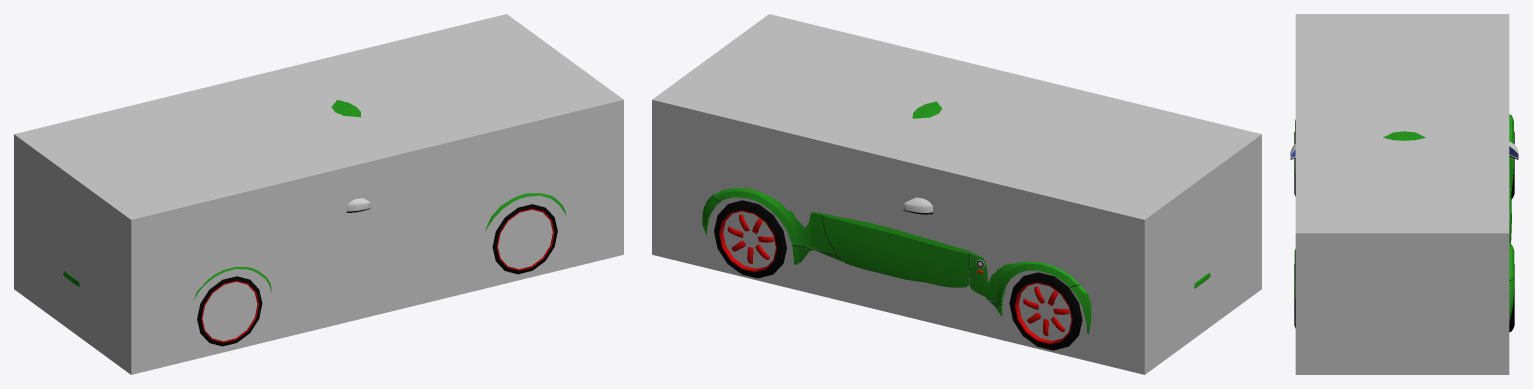
Rendered from car.obj.
3 renders of one model, left to right at view 1: azimuth 30°, elevation 25°; view 2: azimuth 150°, elevation 25°; view 3: azimuth 270°, elevation 25°, orthographic. The views are drawn at different scales.
Visible parts, largest first — view 1: Cube, car_Plane.001, rear_wheel_Cylinder.003, front_wheel_Cylinder.003; view 2: Cube, car_Plane.001, front_wheel_Cylinder.003, rear_wheel_Cylinder.003; view 3: Cube, car_Plane.001, rear_wheel_Cylinder.003.
Boxes of the visible parts, x1,y1,x2,y2 form: Cube: [14, 14, 623, 374]; car_Plane.001: [63, 100, 565, 299]; rear_wheel_Cylinder.003: [492, 204, 557, 274]; front_wheel_Cylinder.003: [197, 276, 262, 346]; Cube: [652, 14, 1261, 374]; car_Plane.001: [702, 101, 1210, 333]; front_wheel_Cylinder.003: [1009, 272, 1082, 350]; rear_wheel_Cylinder.003: [714, 200, 786, 278]; Cube: [1295, 14, 1509, 374]; car_Plane.001: [1290, 114, 1518, 320]; rear_wheel_Cylinder.003: [1294, 264, 1514, 332].
Size of what is drawn, in the model's own units: 6.48 by 1.95 by 2.85.
